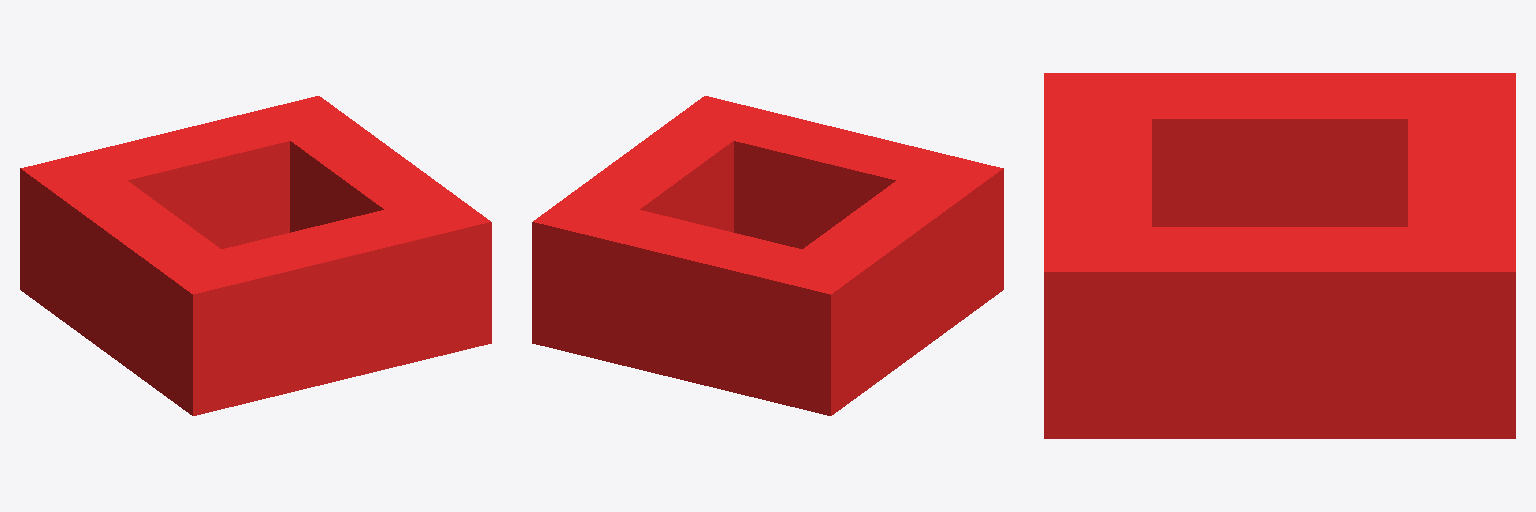
URDF robot description (hole):
<?xml version="1.0" ?>
<robot name="hole">
  <link name="baseLink">
    <contact>
      <lateral_friction value="0.5"/>
      <rolling_friction value="0.5"/>
      <contact_cfm value="0.0"/>
      <contact_erp value="1.0"/>
    </contact>
    <inertial>
      <origin rpy="0 0 0" xyz="0 0 0.01"/>
       <mass value="0.0"/>
       <inertia ixx="0" ixy="0" ixz="0" iyy="0" iyz="0" izz="0"/>
    </inertial>
    <visual>
      <origin rpy="0 0 0" xyz="0 0.0 0"/>
      <geometry>
				<mesh filename="hole.obj" scale="1 1 1"/>
      </geometry>
       <material name="white">
        <color rgba="1 0.2 0.2 1.0"/>
      </material>
    </visual>
    <collision concave="yes">
      <origin rpy="0 0 0" xyz="0 0 0"/>
      <geometry>
      	
	 <mesh filename="hole.obj" scale="1 1 1"/>
      </geometry>
    </collision>
  </link>
</robot>

--- Render facts (derived) ---
3 views of the same robot in one strip: view 1: azimuth 30°, elevation 25°; view 2: azimuth 150°, elevation 25°; view 3: azimuth 270°, elevation 25° (orthographic).
Model hole with 1 links and 0 joints (none), rooted at baseLink, posed every joint at zero.
Links seen in each view (by area): view 1: baseLink; view 2: baseLink; view 3: baseLink.
Boxes of the visible links, bbox=[...] form: baseLink: bbox=[20, 96, 491, 415]; baseLink: bbox=[532, 96, 1003, 415]; baseLink: bbox=[1044, 73, 1515, 438].
Size in the robot's own frame: 0.077 by 0.077 by 0.03 metres.
1 mesh visuals loaded from 1 distinct referenced files (1 OBJ).